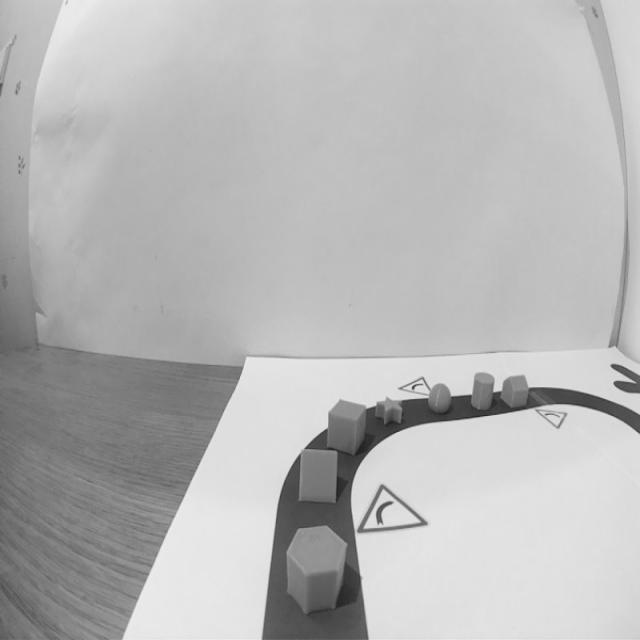ball: (426, 380, 454, 418)
cube: (326, 396, 368, 458)
cylinder: (470, 369, 496, 416)
hexagon: (283, 523, 350, 614)
home: (500, 372, 531, 416)
leftTurn: (349, 474, 434, 543)
star: (374, 396, 406, 426)
triangle: (297, 446, 341, 508)
